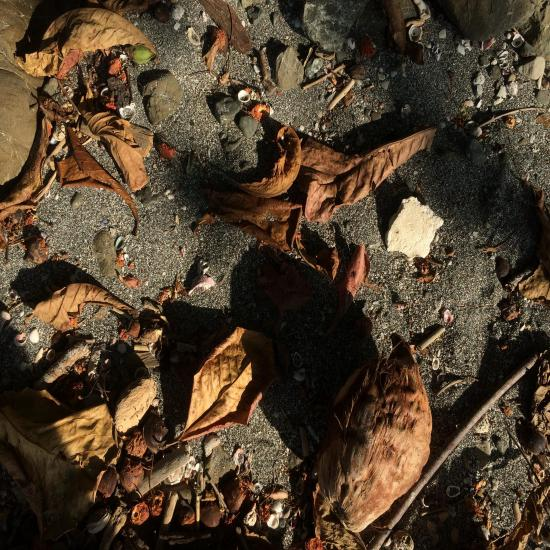Styrofoam piece: (385, 196, 443, 264)
